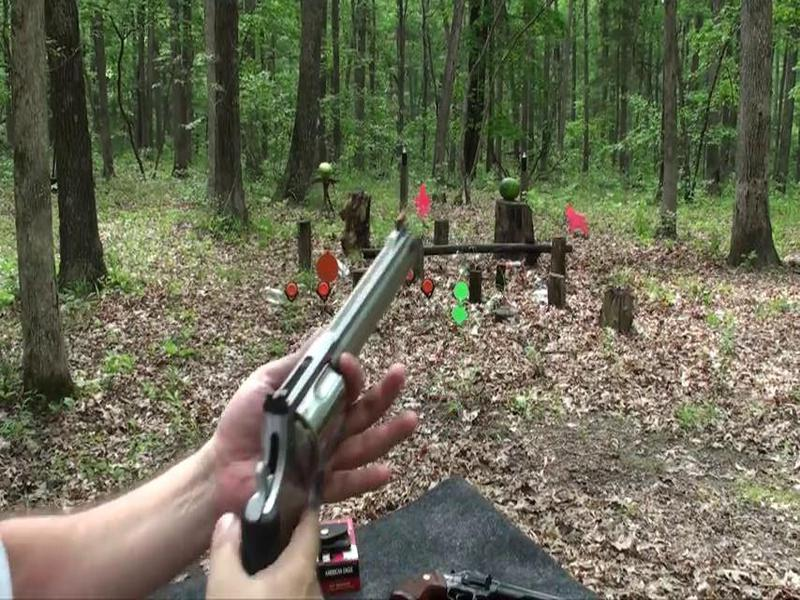Revolver: (234, 194, 418, 582)
